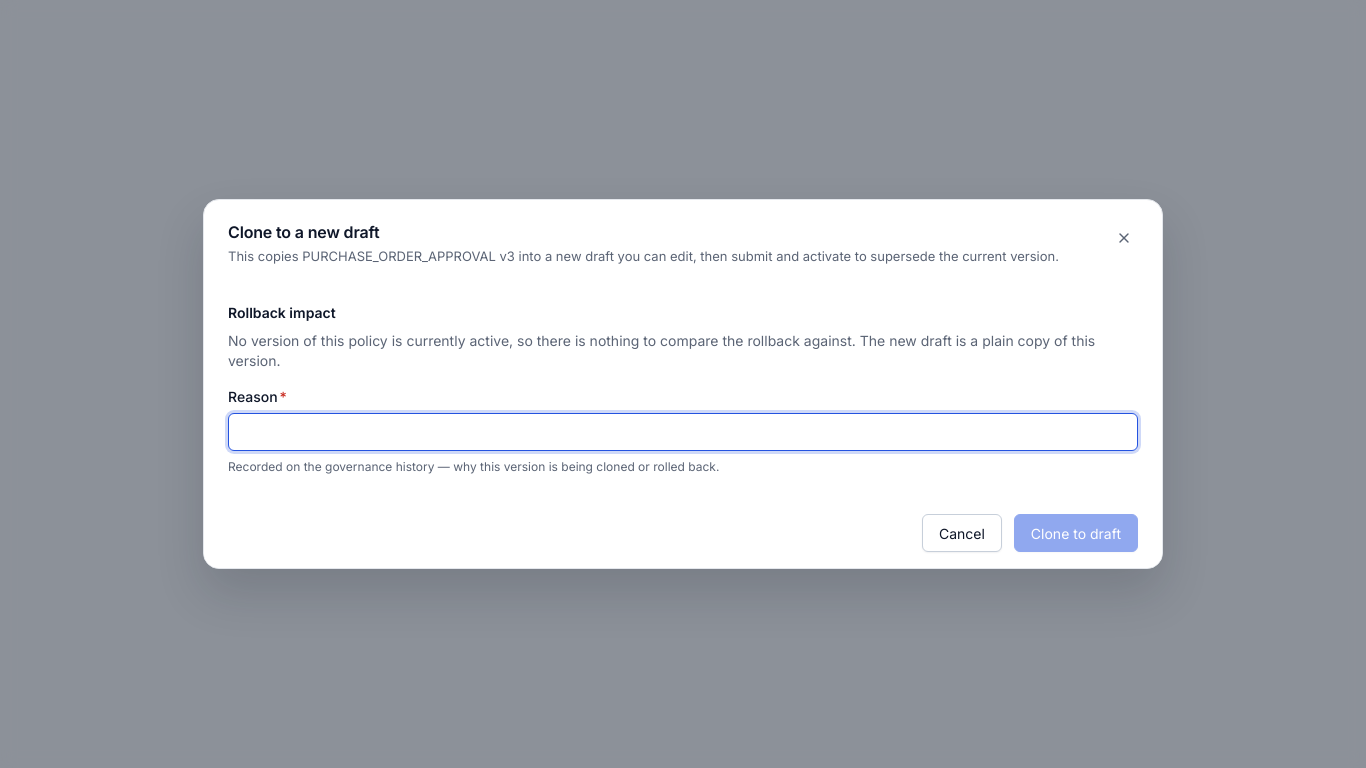
Scenario: ClonePolicyDialog › keeps confirm disabled until a reason of at least three characters is entered
This screenshot has width=1366, height=768.
Check: the button "Clone to draft" is disabled, box [1014, 514, 1138, 552]
Type "ab" into the field labelled "Reason*" at {"x": 683, "y": 432}, box [228, 413, 1138, 451]
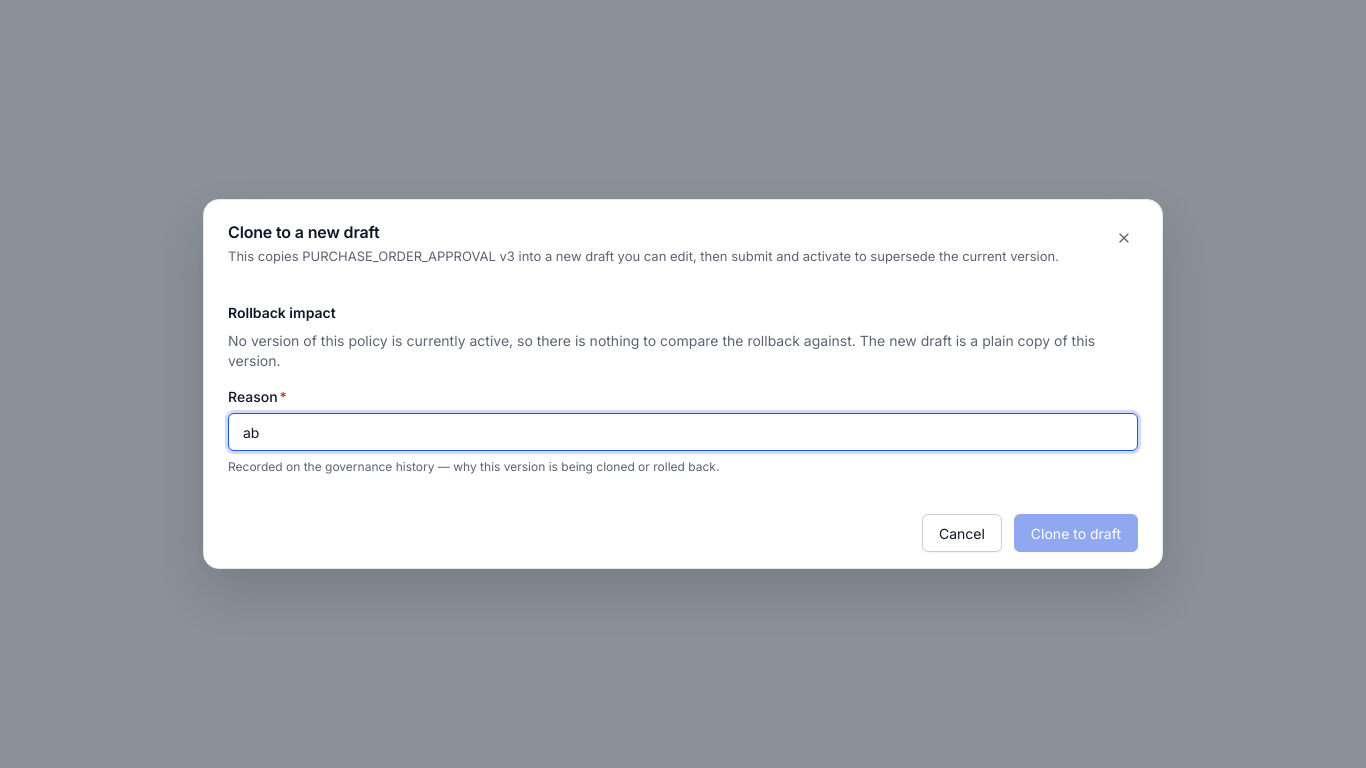
Check: the button "Clone to draft" is disabled, box [1014, 514, 1138, 552]
Type "c" into the field labelled "Reason*" at {"x": 683, "y": 432}, box [228, 413, 1138, 451]
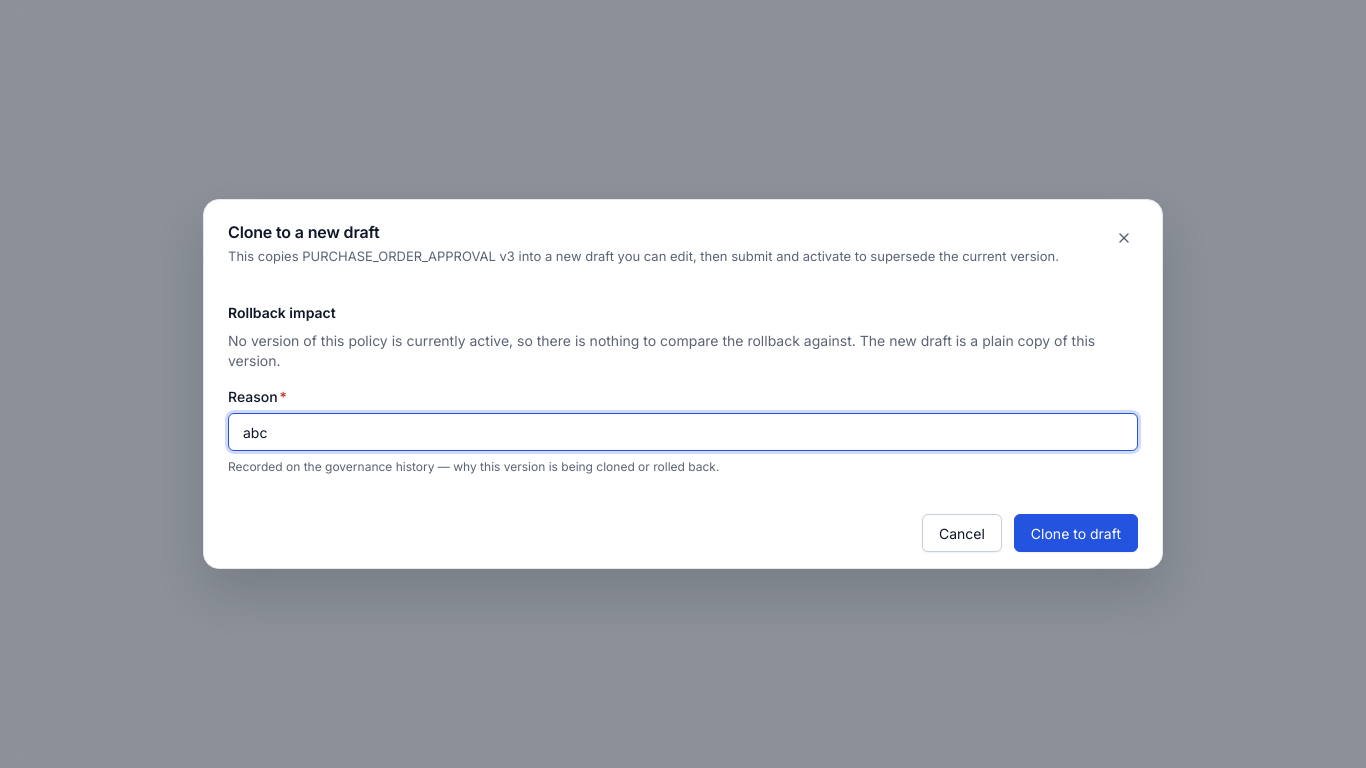
Check: the button "Clone to draft" is enabled, box [1014, 514, 1138, 552]
